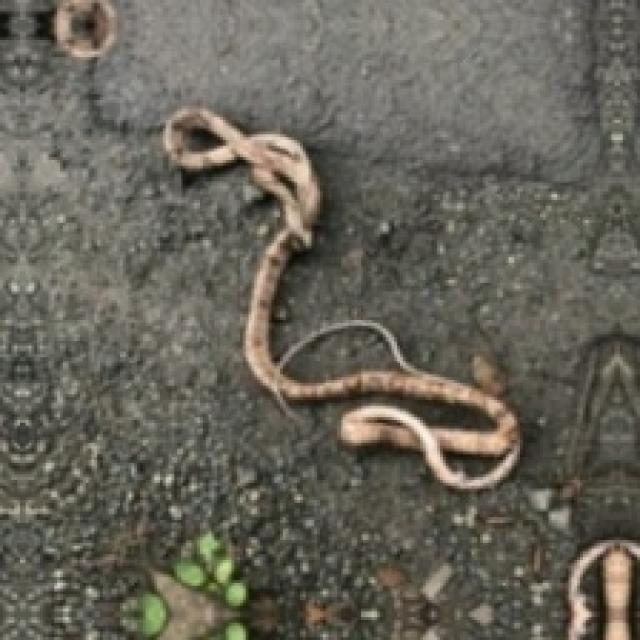dog-toothed cat snake: (163, 106, 517, 489)
